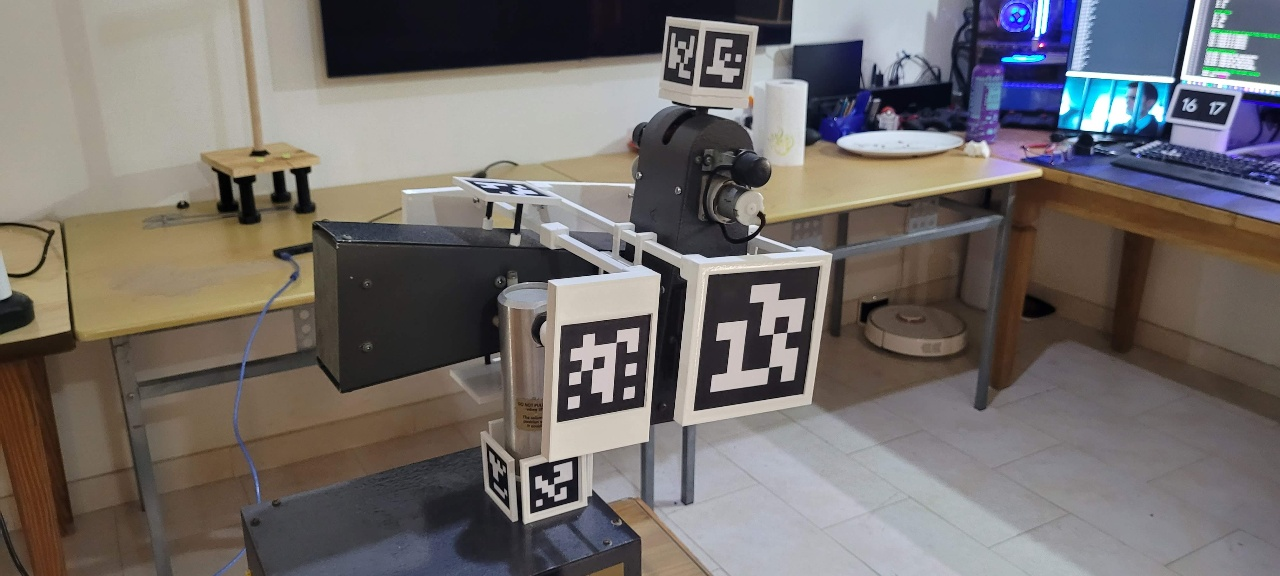Robot: (312, 15, 832, 525)
